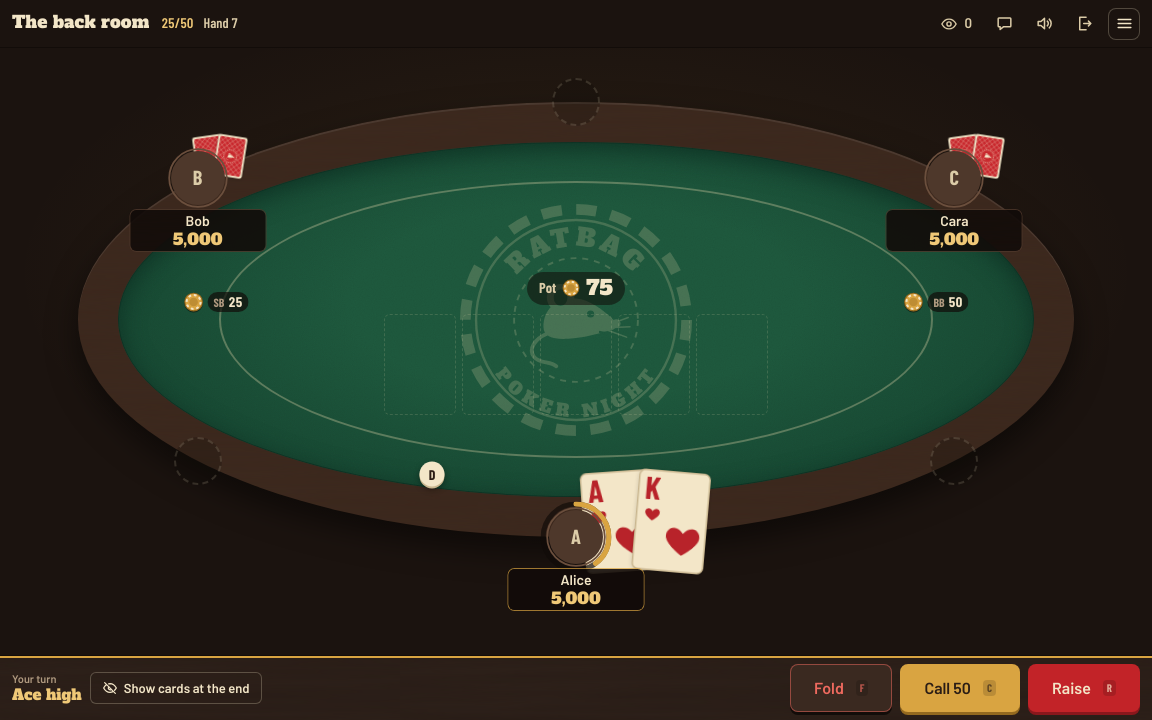
Test: clicks and confirms › keeps your clock on top of the table menu on your turn, with a way back
What coordinates should you click on to do the following:
click the button named "Table menu"
I would click on:
 (1124, 24)
Its box is [1108, 8, 1140, 40].
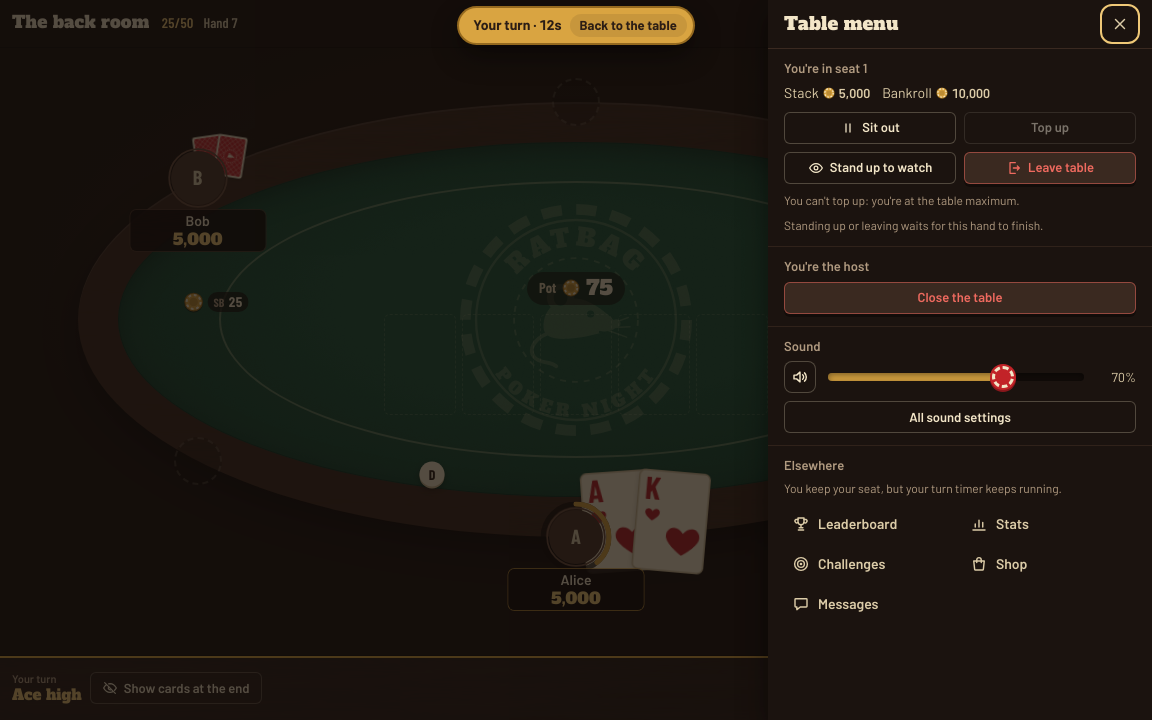
Expected: the dialog "Table menu" is shown, [768, 0, 1151, 719]
Expected: the text "Your turn · 12s" is shown, [473, 15, 562, 36]
What coordinates should you click on to do the following:
click the button "Your turn · 12s Back to the table"
I would click on:
 (576, 25)
Its box is [459, 8, 693, 43].
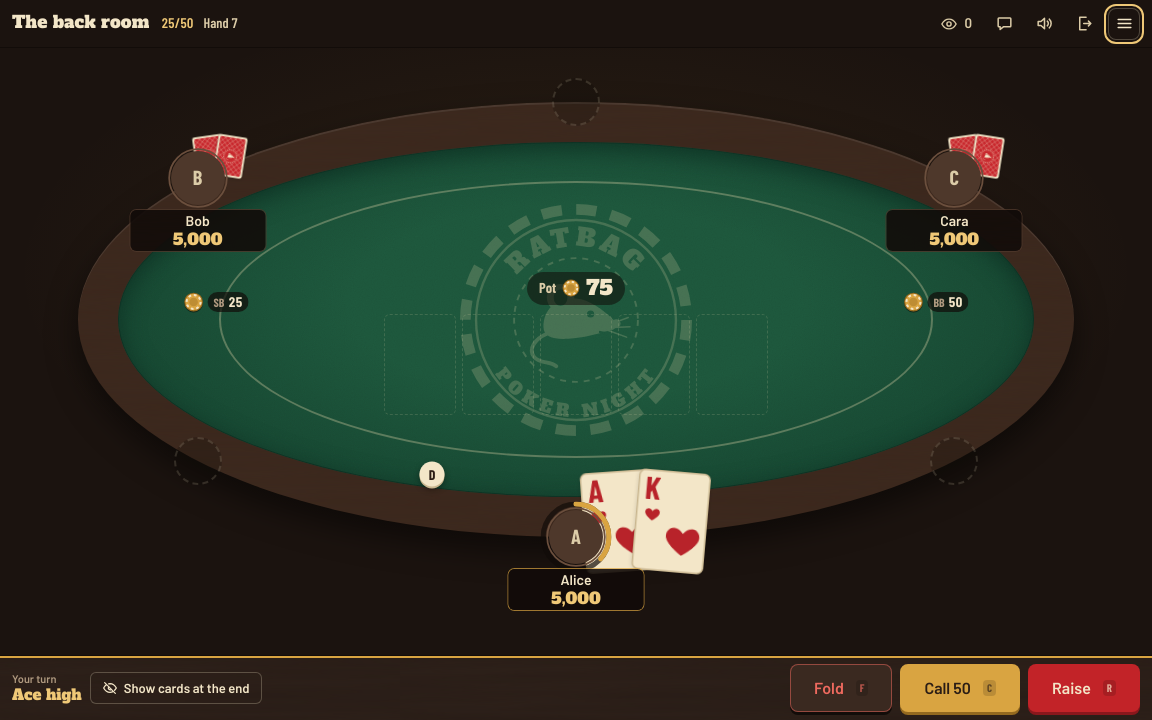
Expected: the element named "Your action" is shown, [790, 664, 1140, 712]
Expected: the heading "Table menu" is gone
